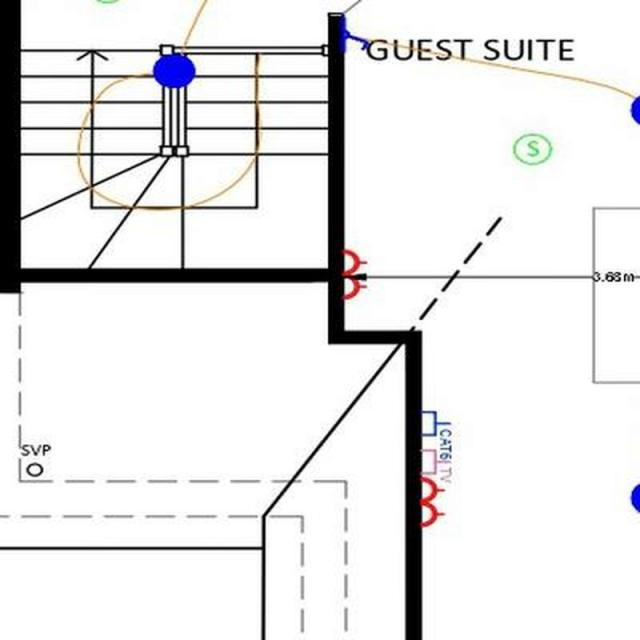Cat 6 Data Socket: (420, 410, 453, 458)
Double Socket: (420, 477, 446, 527), (344, 250, 367, 298)
Light Switch: (343, 26, 368, 56)
Low Energy Pendant Light: (154, 54, 195, 86), (628, 482, 639, 511), (630, 96, 640, 125)
Mains Wired Smoke Detector: (512, 133, 552, 163)
TV - Satellite Multisocket: (422, 448, 452, 482)
